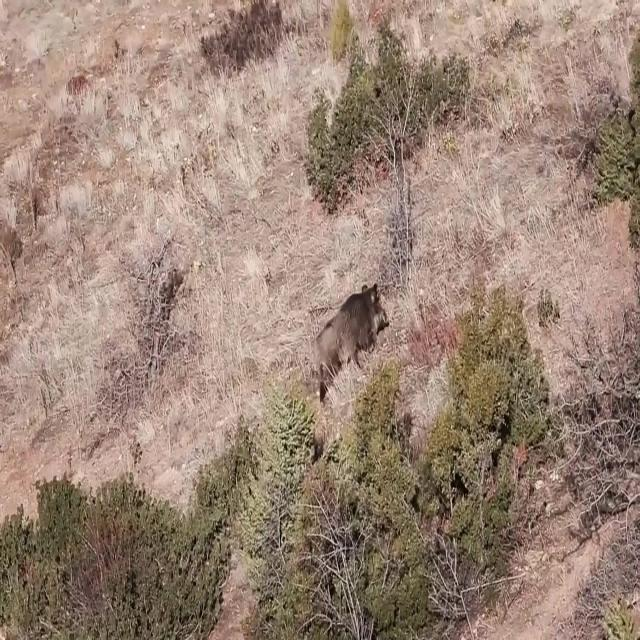pig: (300, 274, 416, 410)
